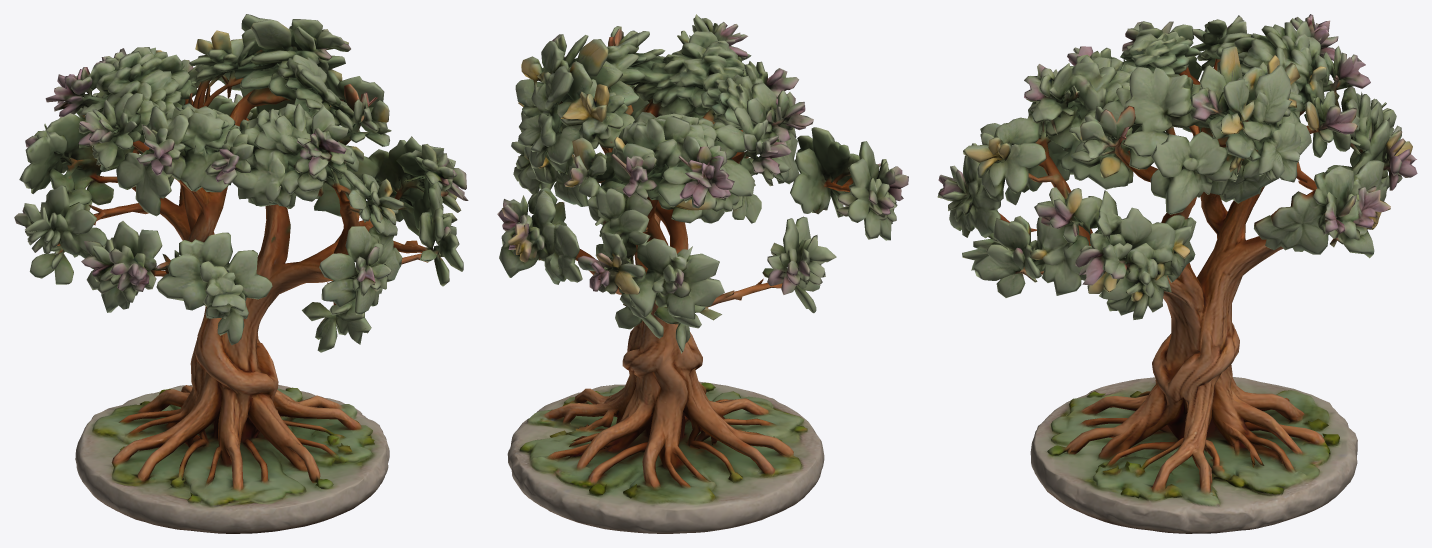
The model's file is tree.glb.
The picture shows the model from 3 angles, left to right: view 1: azimuth 30°, elevation 25°; view 2: azimuth 150°, elevation 25°; view 3: azimuth 270°, elevation 25°; orthographic projection. The views are drawn at different scales.
Parts seen in each view (by area): view 1: tripo_node_2a589b8c-6b1e-4fb3-ba2b-0b99e1e405d2; view 2: tripo_node_2a589b8c-6b1e-4fb3-ba2b-0b99e1e405d2; view 3: tripo_node_2a589b8c-6b1e-4fb3-ba2b-0b99e1e405d2.
Part boxes in pixels (x1,y1,x2,y2): tripo_node_2a589b8c-6b1e-4fb3-ba2b-0b99e1e405d2: [14, 14, 468, 533]; tripo_node_2a589b8c-6b1e-4fb3-ba2b-0b99e1e405d2: [497, 14, 908, 533]; tripo_node_2a589b8c-6b1e-4fb3-ba2b-0b99e1e405d2: [937, 14, 1417, 533].
Size of the model in its own units: 0.9206 by 1 by 0.9745.
1 material, 1 textured.
